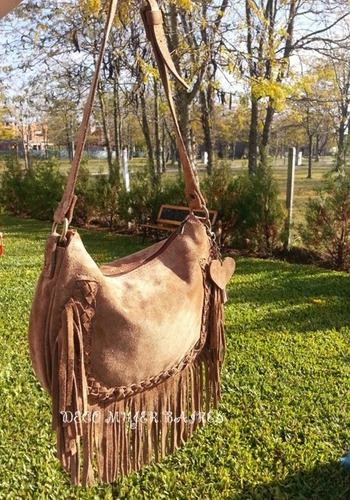cartera: (28, 1, 236, 490)
gamuza: (31, 210, 237, 406)
